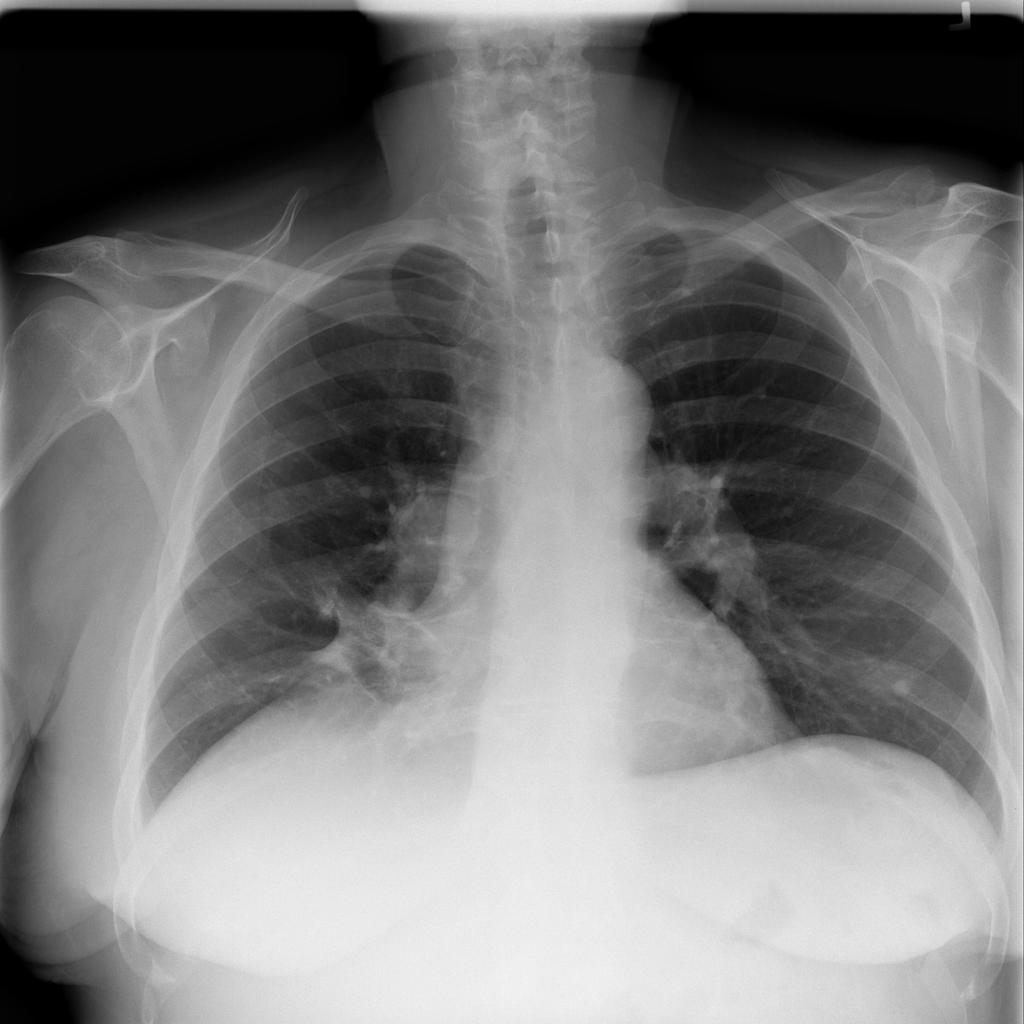nodule: (378, 470, 495, 582), (877, 658, 934, 703)
